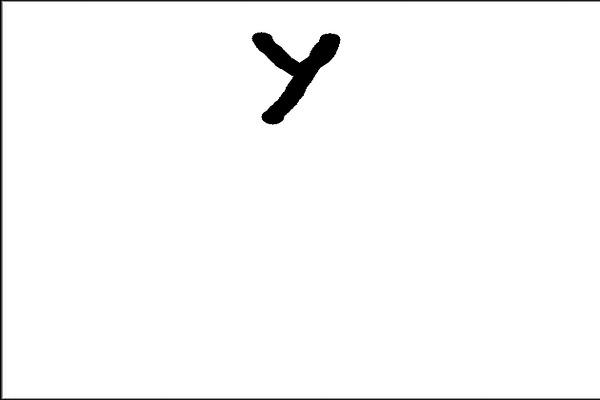Y: (239, 16, 347, 140)
